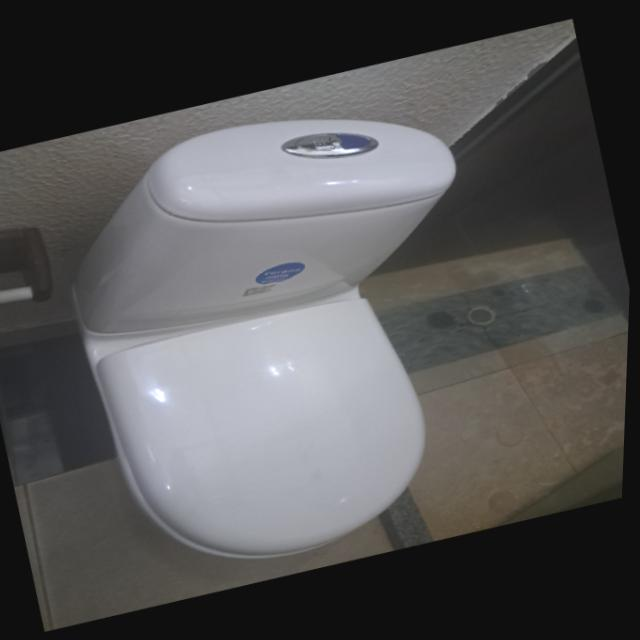toilet: (29, 71, 542, 596)
